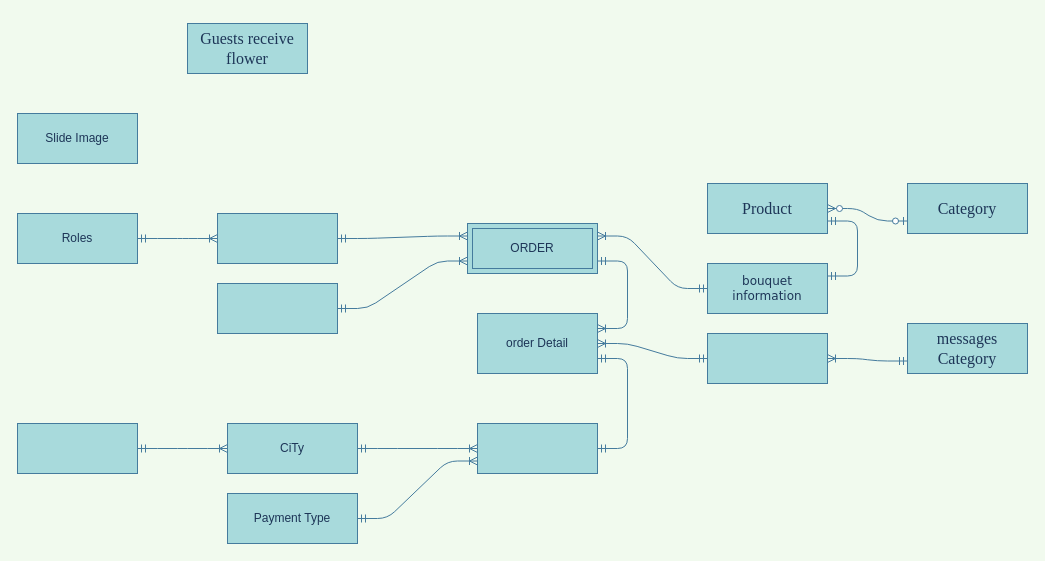
This 1045x561 diagram has some shape labels left out. Each missing label, with the box of its shape:
Cart Status: (216, 282, 338, 334)
customer-detail: (216, 212, 338, 264)
District: (16, 422, 138, 474)
messages: (706, 332, 828, 384)
Shipping Detail: (476, 422, 598, 474)
